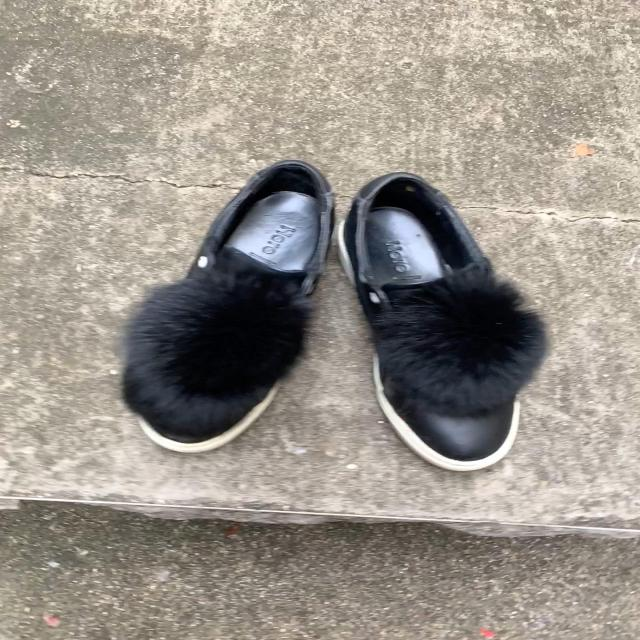shoe: (120, 160, 336, 456), (340, 172, 550, 456)
